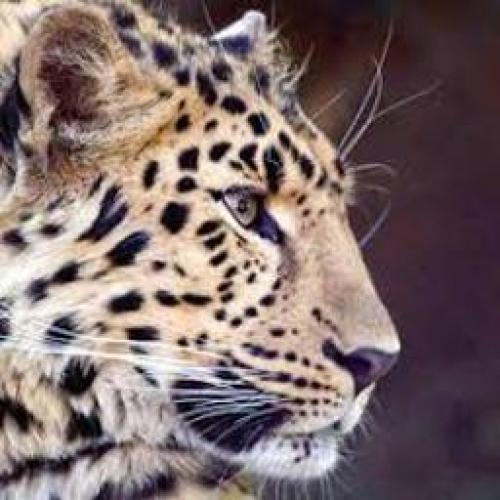amur_leopard-endangered: (0, 2, 408, 490)
